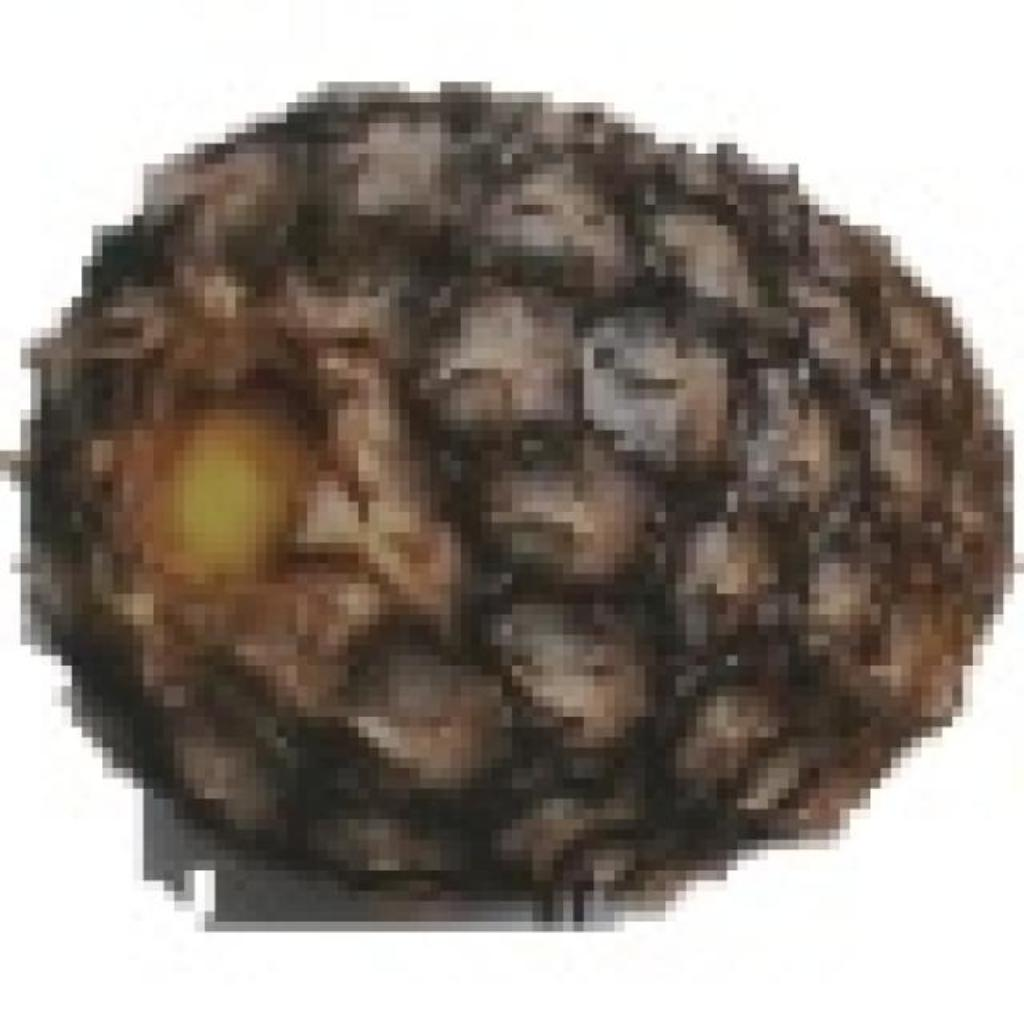pineapple: (51, 72, 1024, 901)
